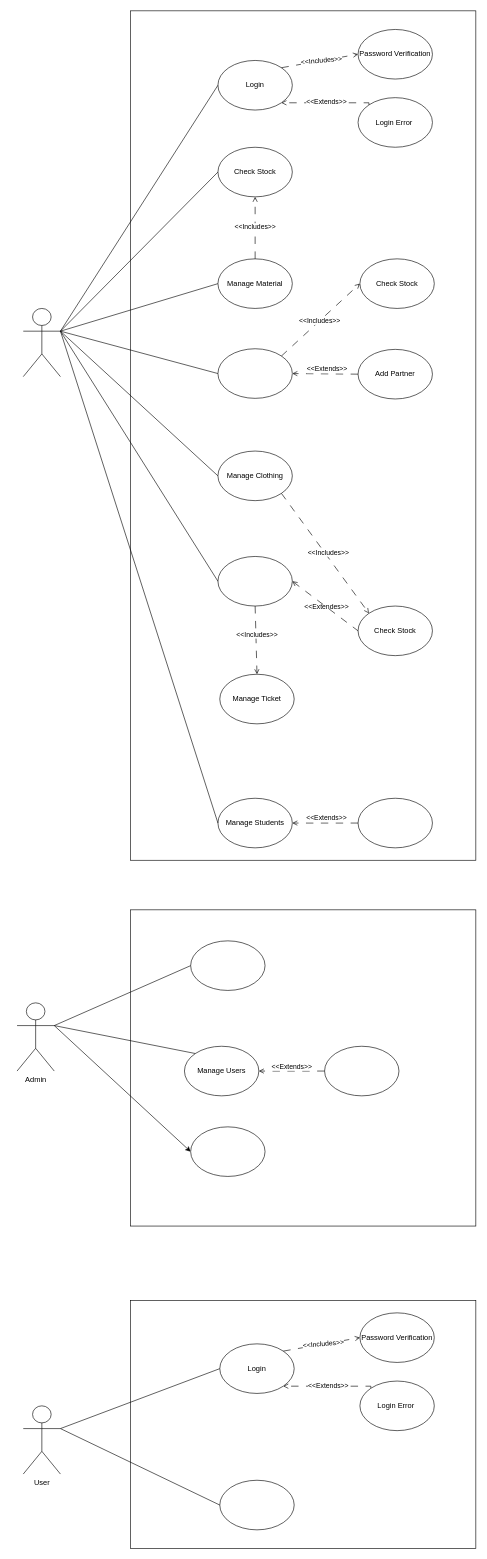
Some shapes in this 487 by 1559 pixel diagram are drawn without their labels. Here are the shapes that lost their labels. From the top down, the centre of each, then its label:
the point at 41,342: Technician / Admin
the point at 254,373: Manage External Trainings
the point at 254,581: Manage Issue
the point at 394,823: Manage Lockers
the point at 227,965: Check dashboard
the point at 361,1071: Manage Roles
the point at 227,1151: Schedule Trainings
the point at 256,1505: Submit Ticket
